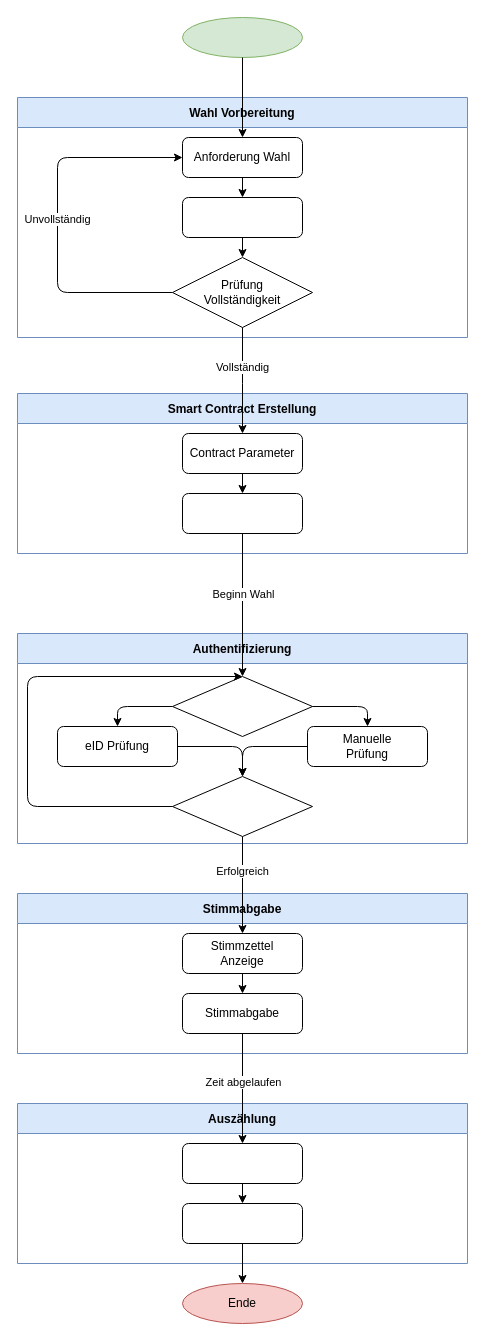
This 485x1341 diagram has some shape labels left out. Here are the shapes that lost their labels. From the top down, the centre of each, then its label:
At [242,37]: "Start".
At [242,217]: "Wahlparameter Definition".
At [242,513]: "Deployment".
At [242,706]: "Authentifizierung?".
At [242,806]: "Prüfung erfolgreich?".
At [242,1163]: "Automatische Auszählung".
At [242,1223]: "Ergebnis Veröffentlichung".
